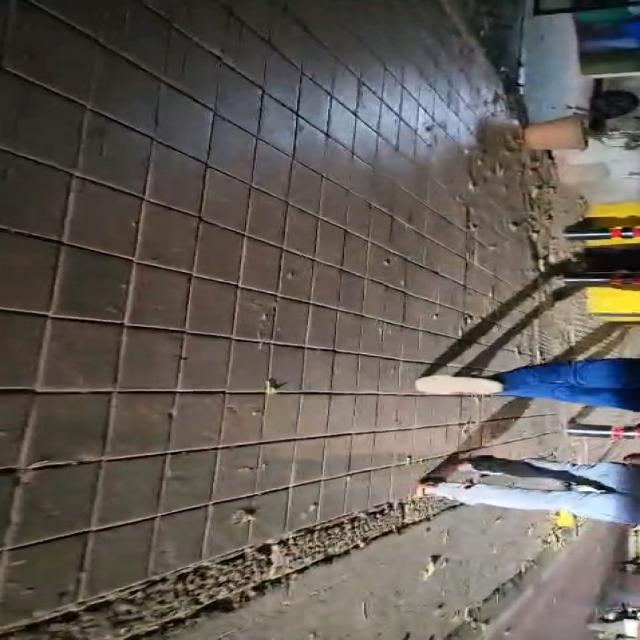person: (417, 455, 639, 524), (416, 358, 639, 411)
